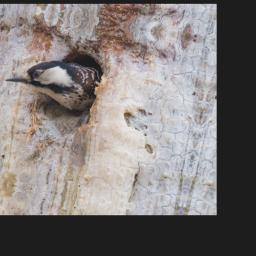Woodpecker: (1, 48, 102, 116)
